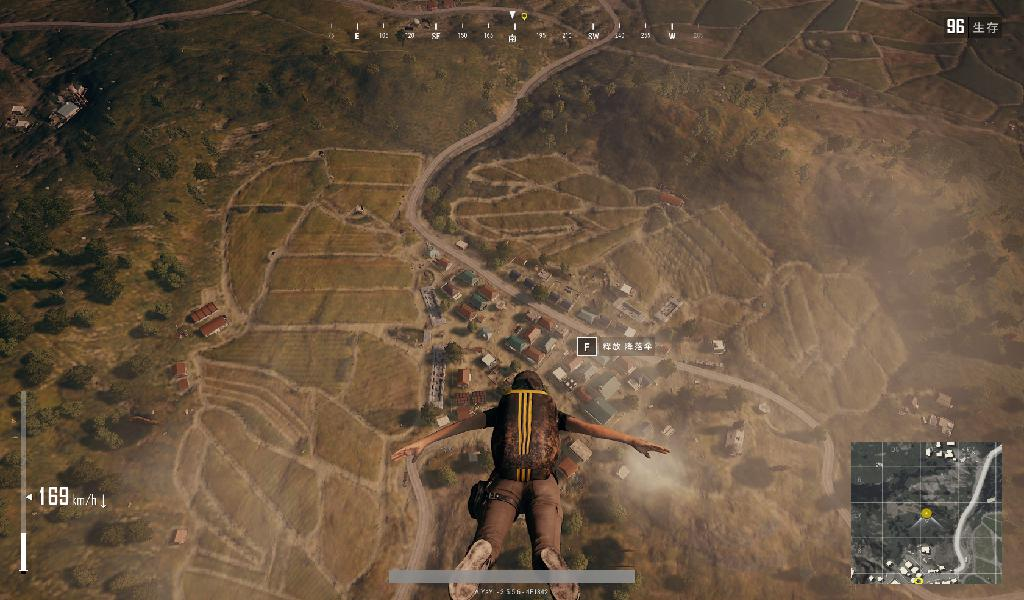Target Person: (388, 371, 672, 600)
